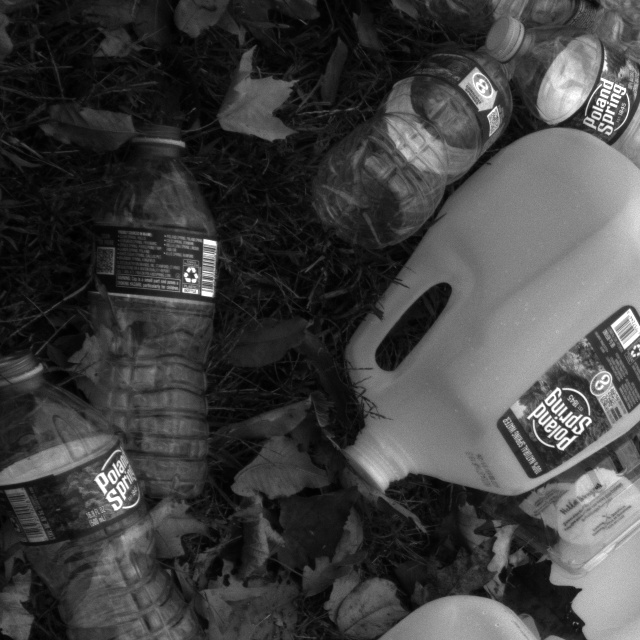bottle: (0, 339, 215, 640), (80, 126, 224, 500), (307, 37, 525, 246), (475, 6, 640, 211)
can: (326, 125, 640, 503), (534, 473, 640, 640)
